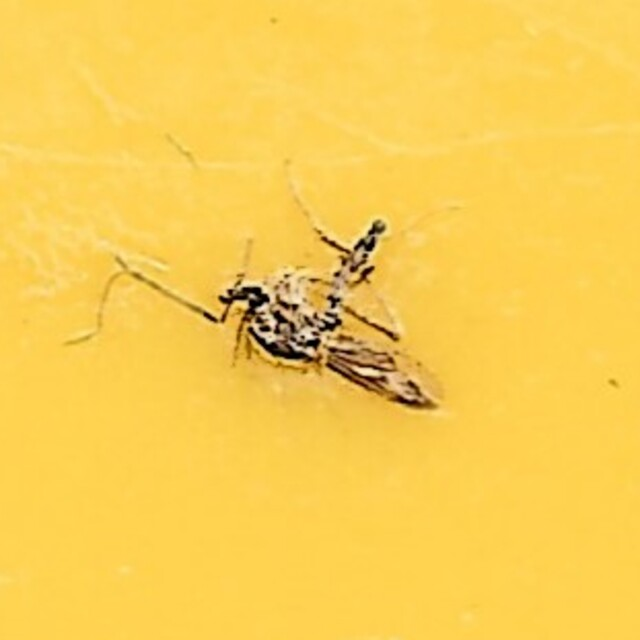Nematocera: (206, 211, 434, 429)
